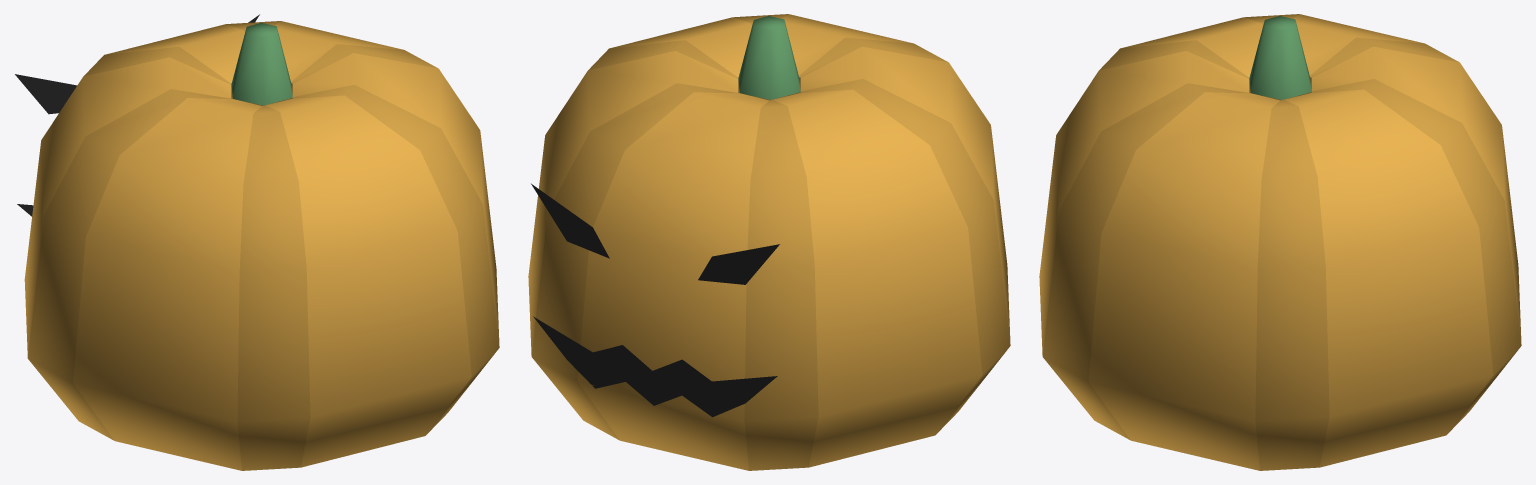
File: pumpkinO.fbx
3 renders of one model, left to right at view 1: azimuth 30°, elevation 25°; view 2: azimuth 150°, elevation 25°; view 3: azimuth 270°, elevation 25°, orthographic.
Visible parts, largest first — view 1: Cube; view 2: Cube; view 3: Cube.
Part boxes in pixels (x1=…): Cube: x1=15, y1=14, x2=499, y2=470; Cube: x1=528, y1=14, x2=1010, y2=470; Cube: x1=1039, y1=14, x2=1521, y2=470.
Size of the model in its own units: 3.89 by 3.28 by 3.6.
1 material, 1 textured.
